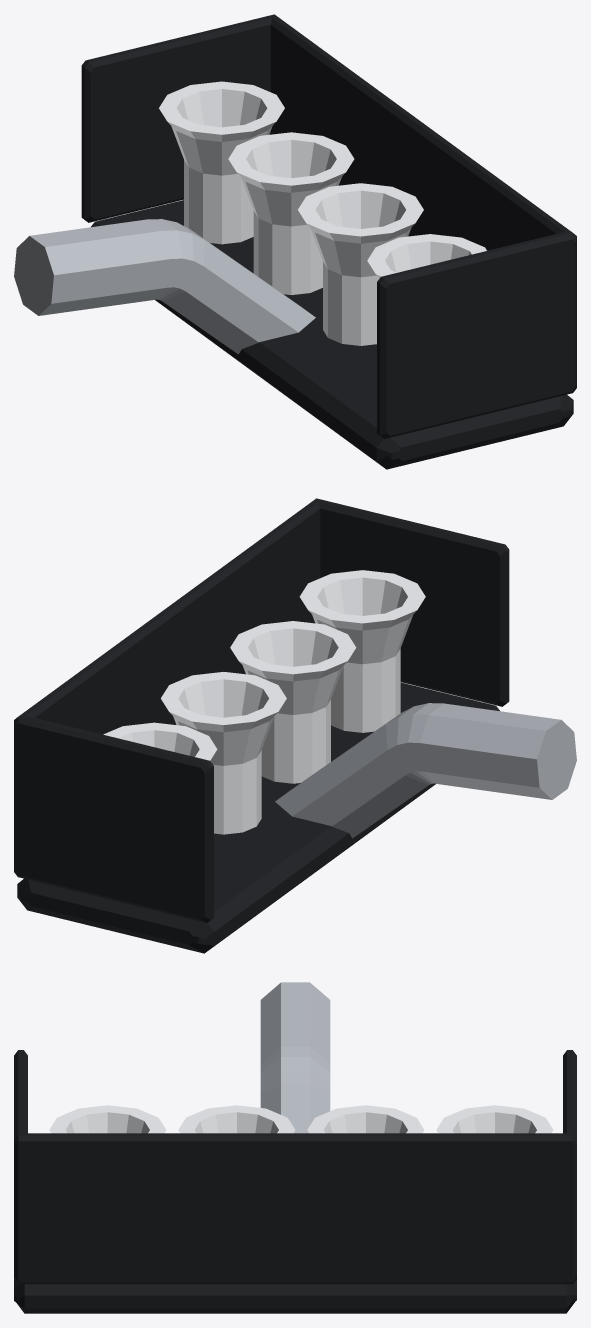
Rendered from apex_v8.glb.
3 renders of one model, top to bottom at view 1: azimuth 30°, elevation 25°; view 2: azimuth 150°, elevation 25°; view 3: azimuth 270°, elevation 25°, orthographic. The views are drawn at different scales.
Parts seen in each view (by area): view 1: model; view 2: model; view 3: model.
Boxes of the visible parts, <box> form: model: <box>14,14,576,469</box>; model: <box>14,498,576,953</box>; model: <box>14,982,576,1313</box>.
Size of the model in its own units: 0.3629 by 0.192 by 0.48.
3 materials, 1 textured.
